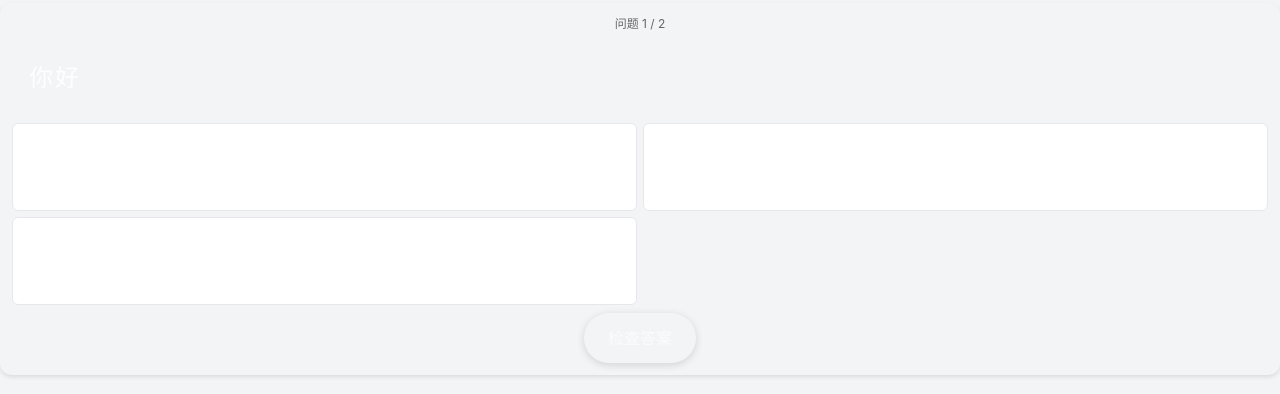
QuizPanel › handles answer selection and submission
Step 1. Click the button "h e l l o" → (47, 166), box [12,123,637,211]
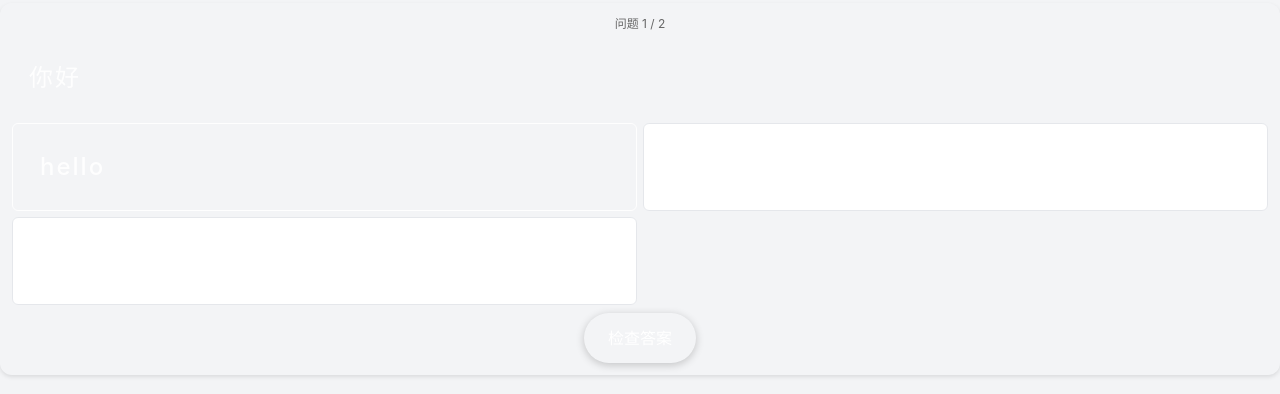
// Submit answer
Step 2. Click the button "检查答案" → (640, 338), box [584,313,696,363]
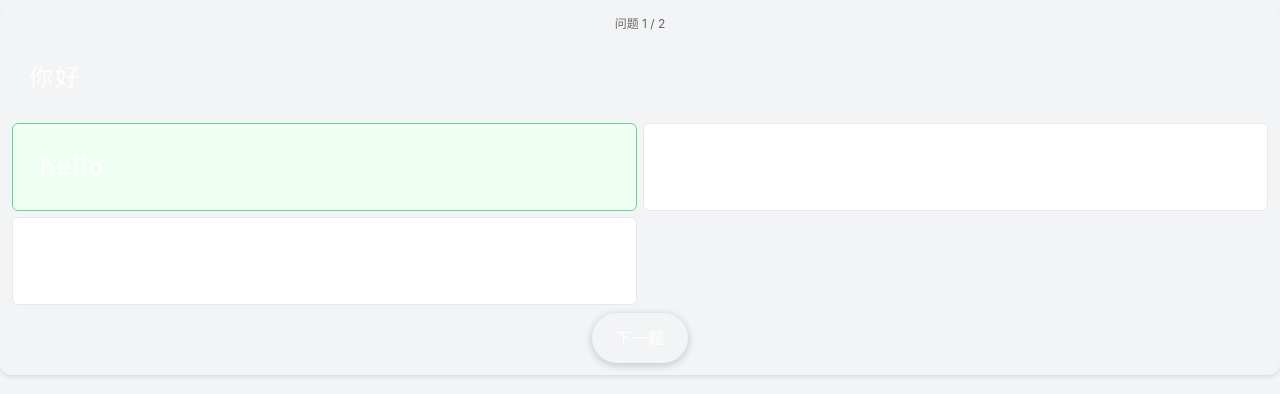
Now the button "下一题" is shown
// Move to next question
Step 3. Click the button "下一题" → (640, 338), box [592,313,688,363]
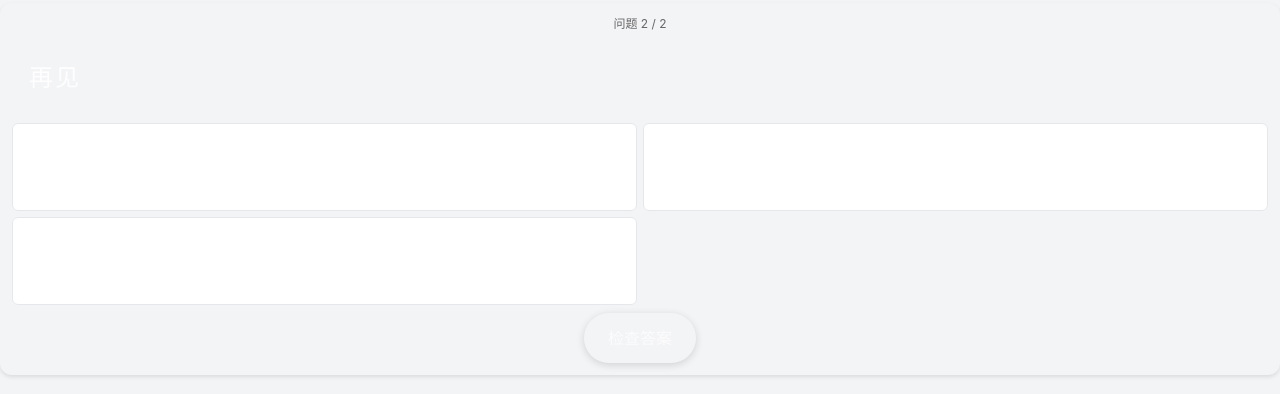
Now the text "问题 2 / 2" is shown, box [613,16,666,31]
